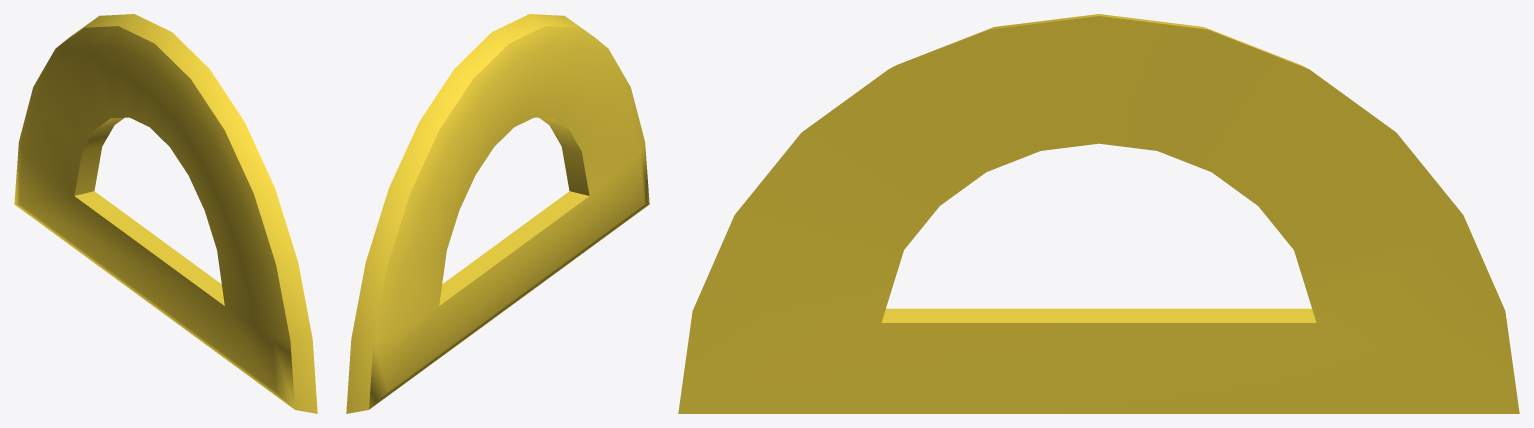
Rendered from transportador.fbx.
3 views of the same model, side by side, from view 1: azimuth 30°, elevation 25°; view 2: azimuth 150°, elevation 25°; view 3: azimuth 270°, elevation 25° (orthographic). The views are drawn at different scales.
Parts seen in each view (by area): view 1: transportador; view 2: transportador; view 3: transportador.
Boxes of the visible parts, <box> form: transportador: <box>14,14,317,413</box>; transportador: <box>346,14,649,413</box>; transportador: <box>678,14,1519,413</box>.
Size of the model in its own units: 6.49 by 69.96 by 134.
